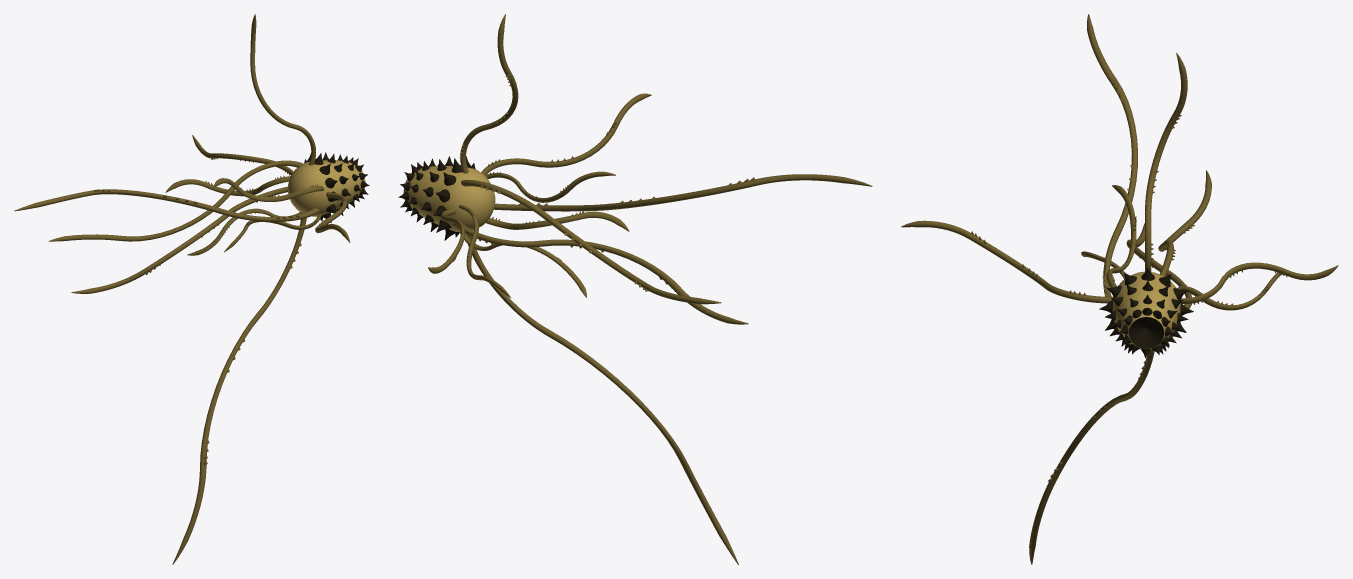
File: bacteria.dae
3 renders of one model, left to right at view 1: azimuth 30°, elevation 25°; view 2: azimuth 150°, elevation 25°; view 3: azimuth 270°, elevation 25°, orthographic. The views are drawn at different scales.
Visible parts, largest first — view 1: Component_1 (×10), Component_5; view 2: Component_1 (×11), Component_5; view 3: Component_1 (×8), Component_5 (×2).
Part boxes in pixels (bbox=[...]): Component_1 (×10): bbox=[14, 14, 350, 564]; Component_5: bbox=[287, 160, 365, 216]; Component_1 (×11): bbox=[428, 14, 872, 564]; Component_5: bbox=[403, 165, 495, 232]; Component_1 (×8): bbox=[901, 14, 1338, 564]; Component_5 (×2): bbox=[1112, 271, 1180, 349].
Bounding box in the file's own units: 11544 × 9434 × 14234.
